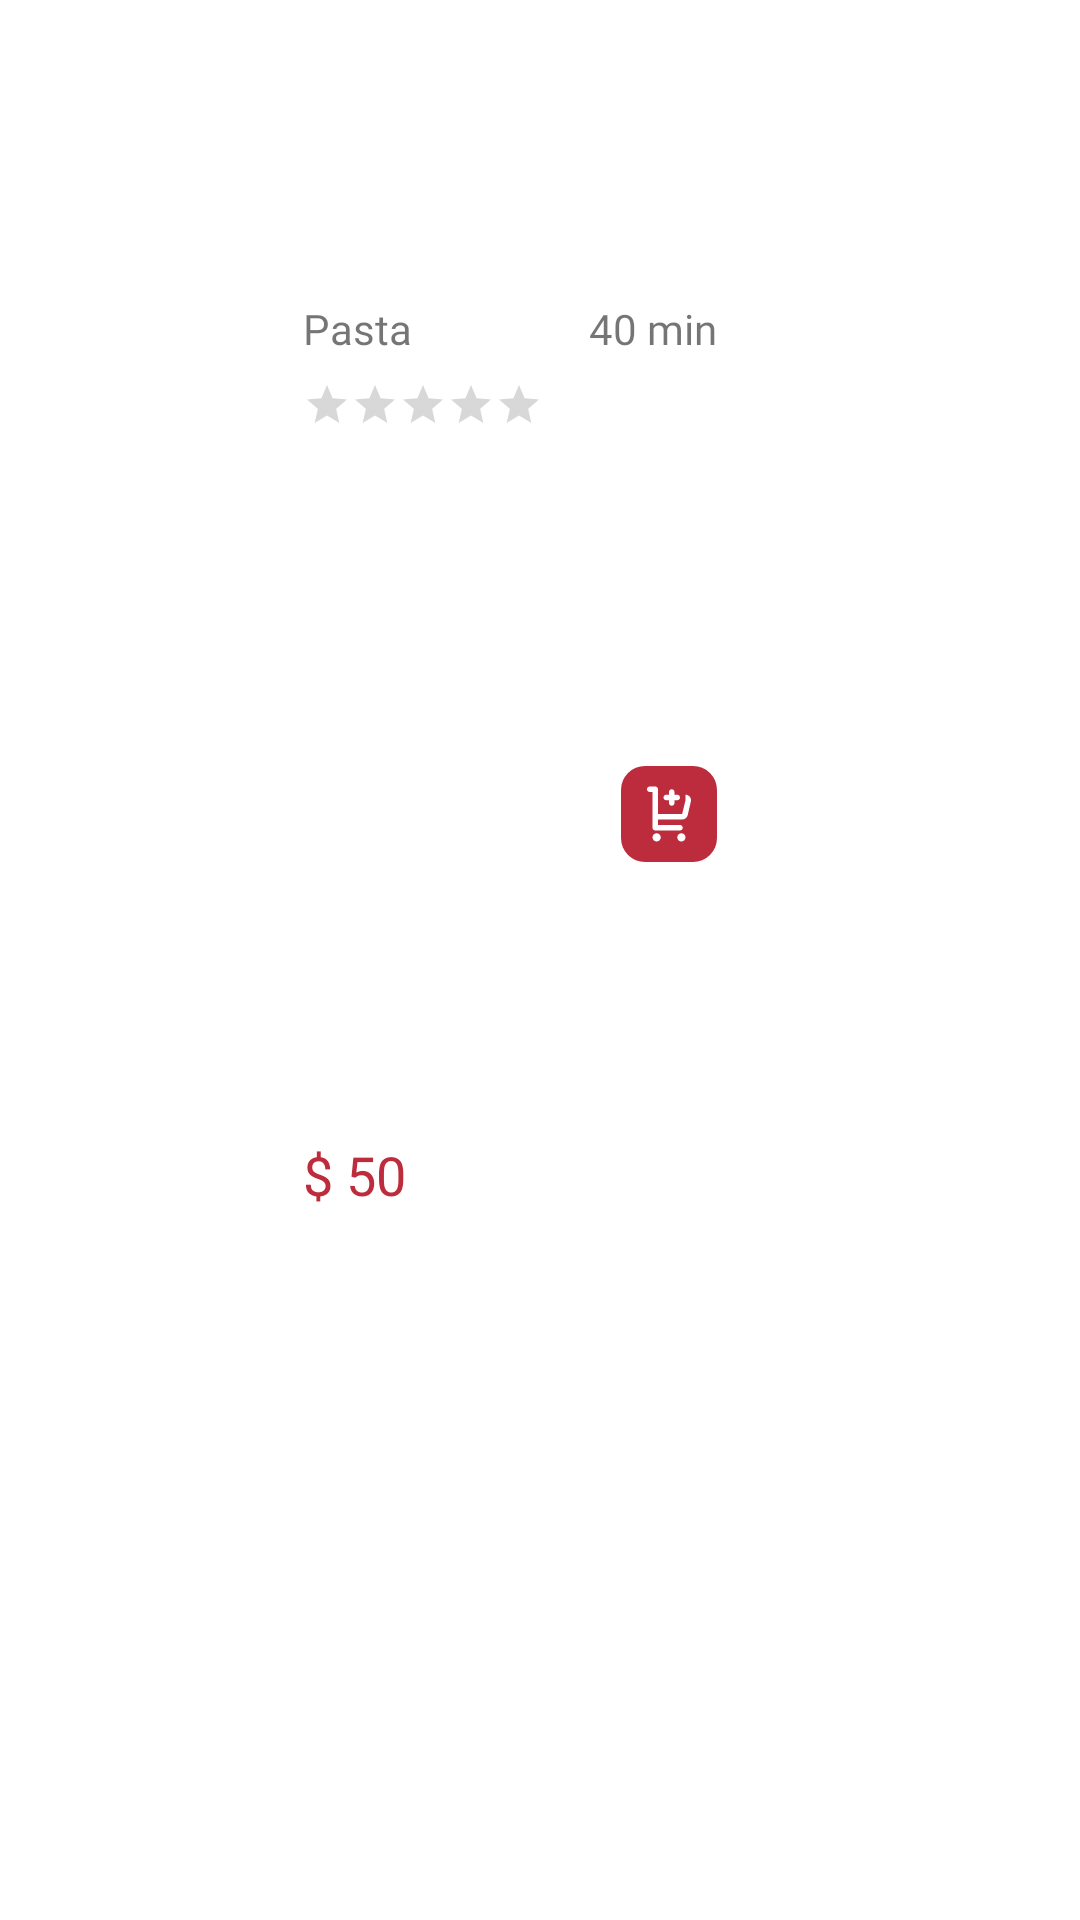

Icons on this 1080*1920 Android screen, each with the point to tap as point (x, y):
add to cart: point (669, 814)
